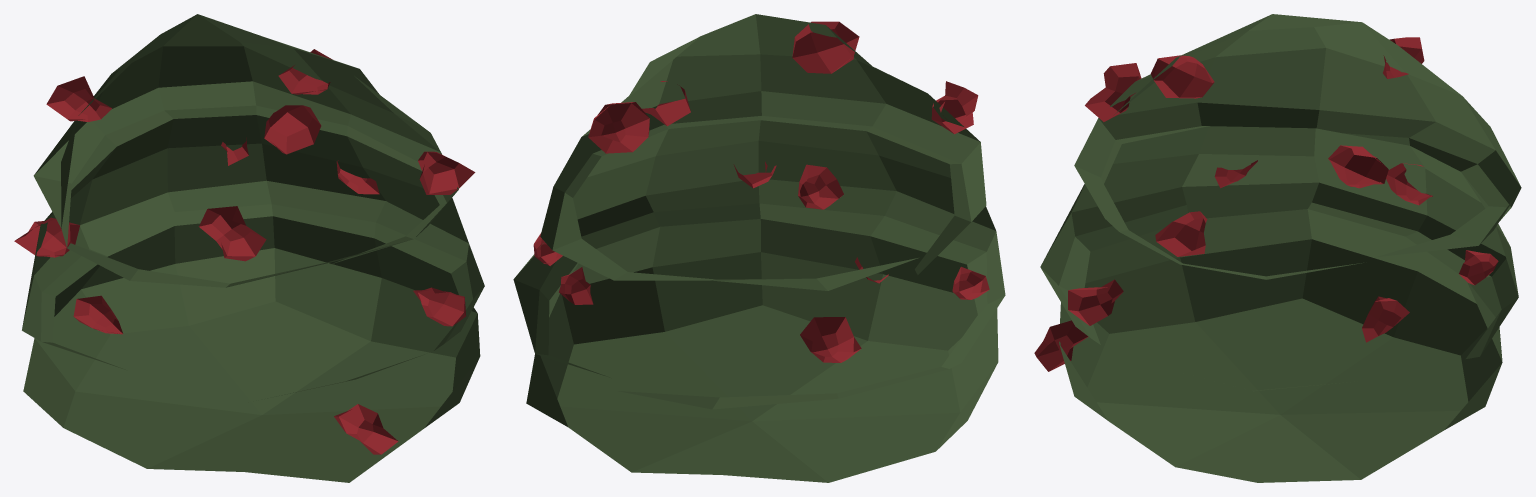
Rendered from berry_bush.glb.
The picture shows the model from 3 angles, left to right: view 1: azimuth 30°, elevation 25°; view 2: azimuth 150°, elevation 25°; view 3: azimuth 270°, elevation 25°; orthographic projection. The views are drawn at different scales.
Parts seen in each view (by area): view 1: body; view 2: body; view 3: body.
Part boxes in pixels (<box>): body: <box>14,14,484,482</box>; body: <box>513,14,1005,482</box>; body: <box>1034,14,1521,482</box>.
Bounding box in the file's own units: 1.25 × 1.05 × 1.24.
